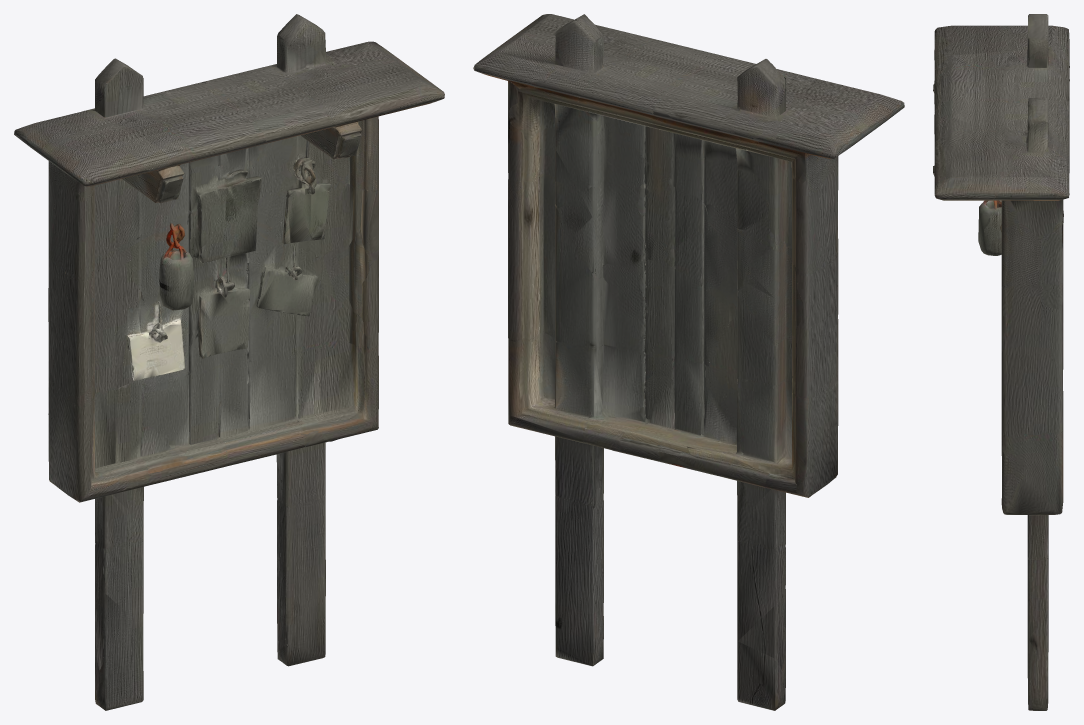
Rendered from notice-board.glb.
3 views of the same model, side by side, from view 1: azimuth 30°, elevation 25°; view 2: azimuth 150°, elevation 25°; view 3: azimuth 270°, elevation 25° (orthographic). The views are drawn at different scales.
Visible parts, largest first — view 1: Mesh_0; view 2: Mesh_0; view 3: Mesh_0.
Boxes of the visible parts, bbox=[...] form: Mesh_0: bbox=[14, 14, 444, 710]; Mesh_0: bbox=[473, 14, 904, 710]; Mesh_0: bbox=[933, 14, 1069, 710].
Bounding box in the file's own units: 1.13 × 1.9 × 0.3893.
Materials: 1 (1 with a texture image).
